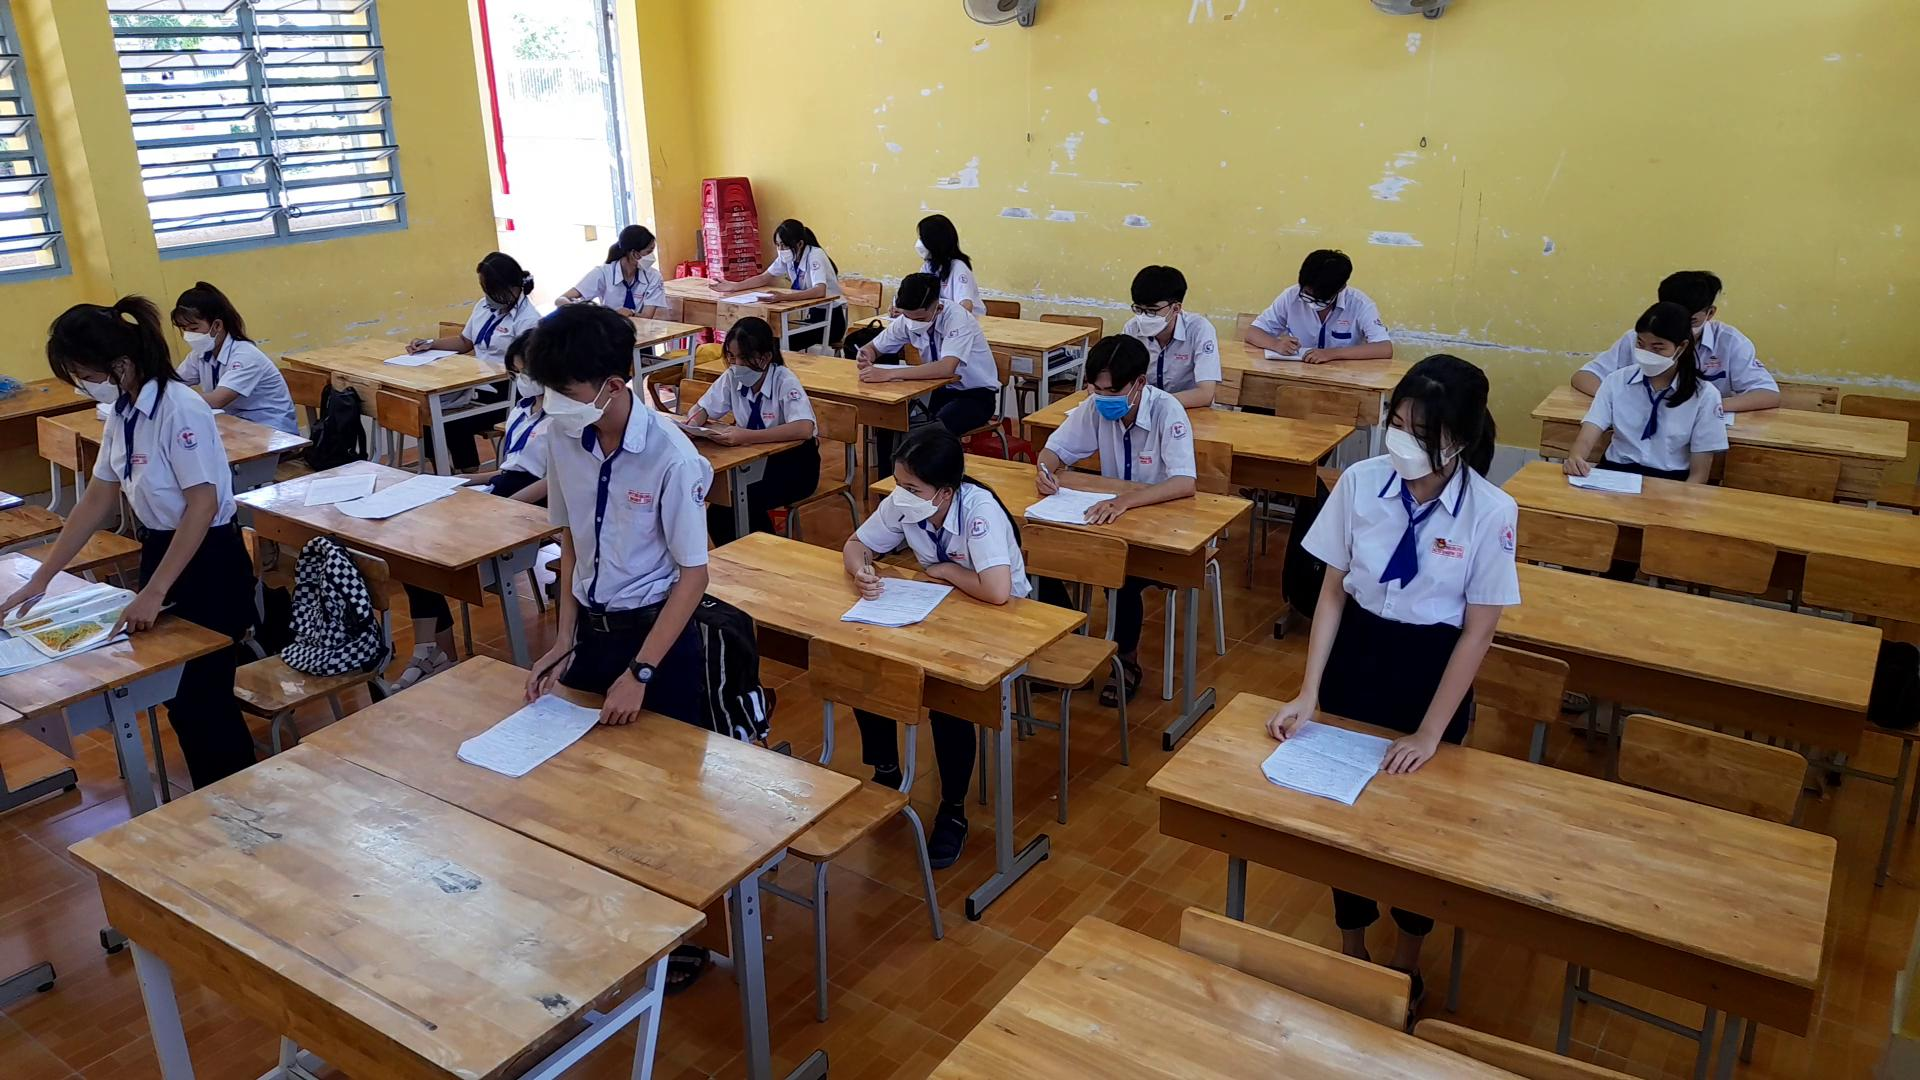Hand Under Table: (1680, 375, 1725, 493)
Look Around: (591, 207, 666, 281)
Normal: (837, 413, 1031, 615), (1029, 324, 1211, 534), (1234, 228, 1406, 373), (684, 301, 825, 448), (702, 202, 844, 311)
Stand Up: (1262, 340, 1531, 782), (496, 291, 713, 731), (11, 291, 239, 641)
